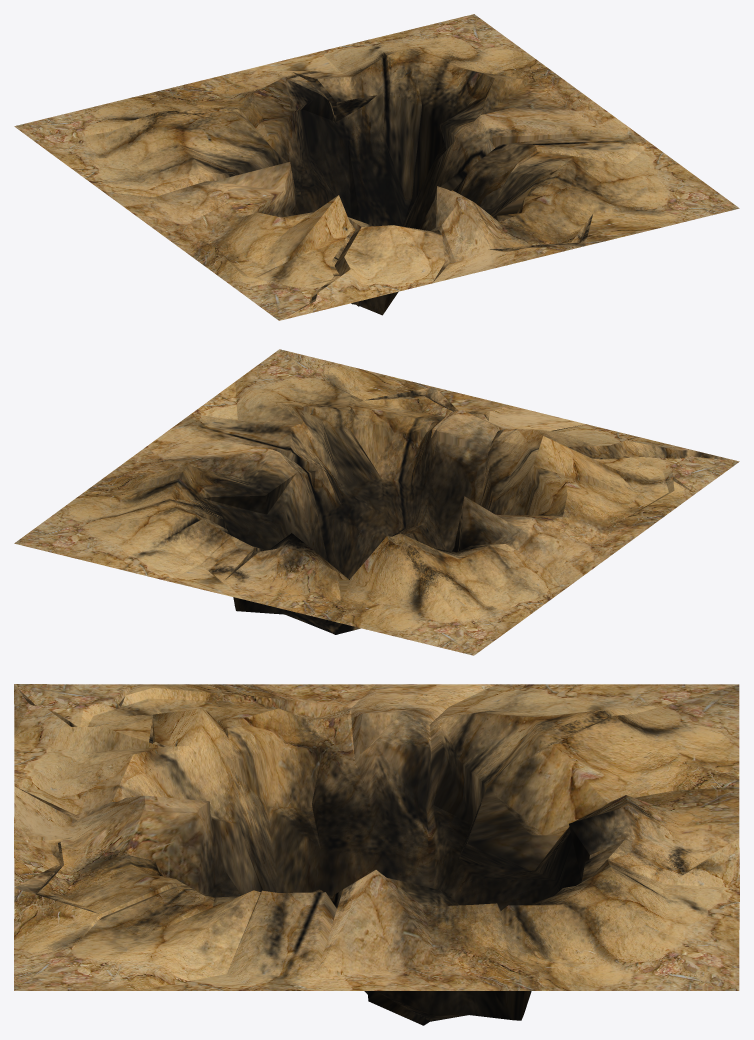
The model's file is Crater_12.fbx.
3 views of the same model, one above another, from view 1: azimuth 30°, elevation 25°; view 2: azimuth 150°, elevation 25°; view 3: azimuth 270°, elevation 25° (orthographic). The views are drawn at different scales.
Visible parts, largest first — view 1: Crater_12; view 2: Crater_12; view 3: Crater_12.
Part boxes in pixels (box(x1,y1,x2,y2)): Crater_12: box(14, 14, 739, 320); Crater_12: box(14, 349, 739, 655); Crater_12: box(14, 684, 739, 1025).
Size of the model in its own units: 601 by 213 by 601.
